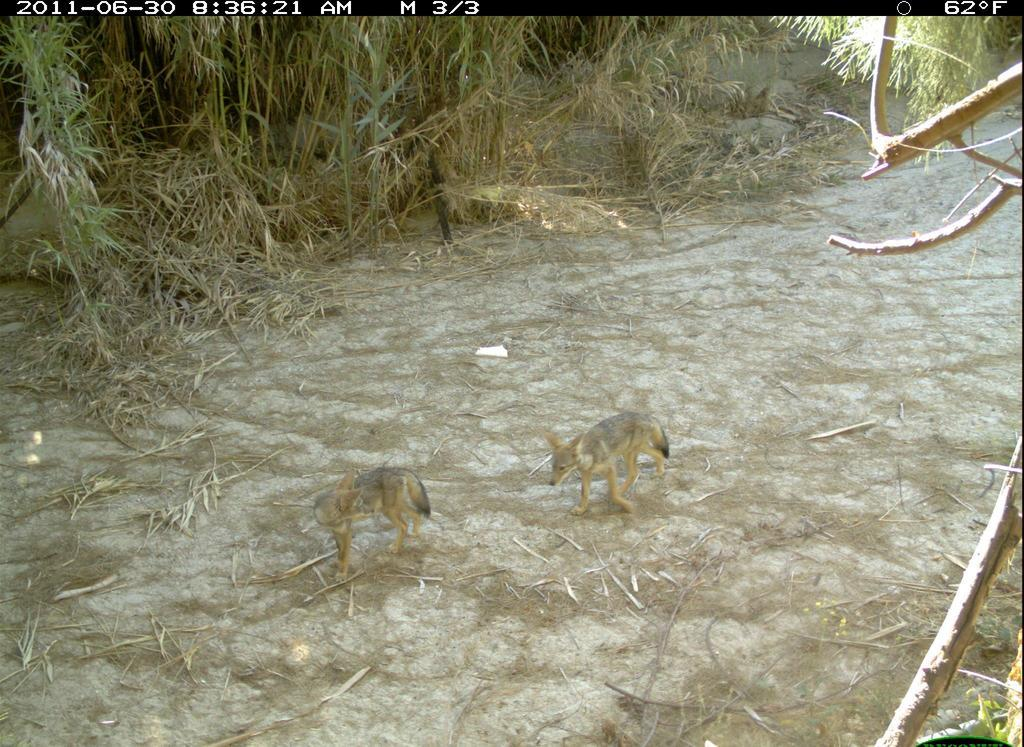coyote: (304, 452, 445, 596), (541, 401, 694, 528)
